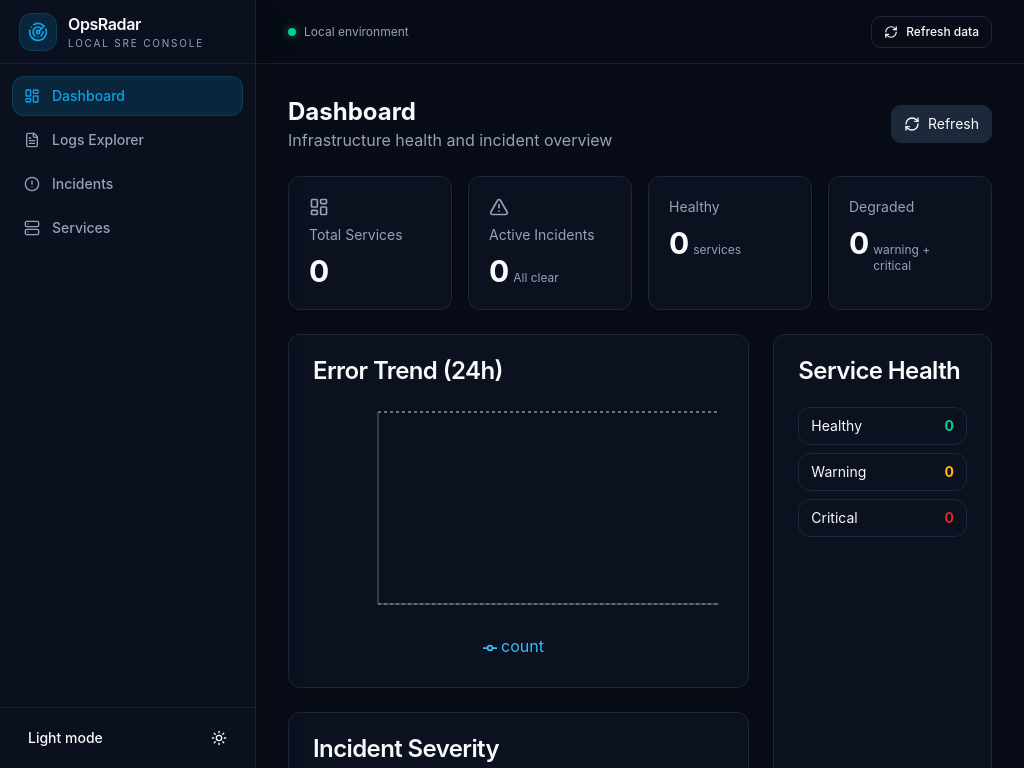
Test: application navigation › uses router navigation without reloading the page
Expected: the heading "Dashboard" is shown, top-left (288, 97), bottom-right (416, 126)
Click the link "Logs Explorer" at (84, 140), box top-left (24, 131), bottom-right (144, 148)
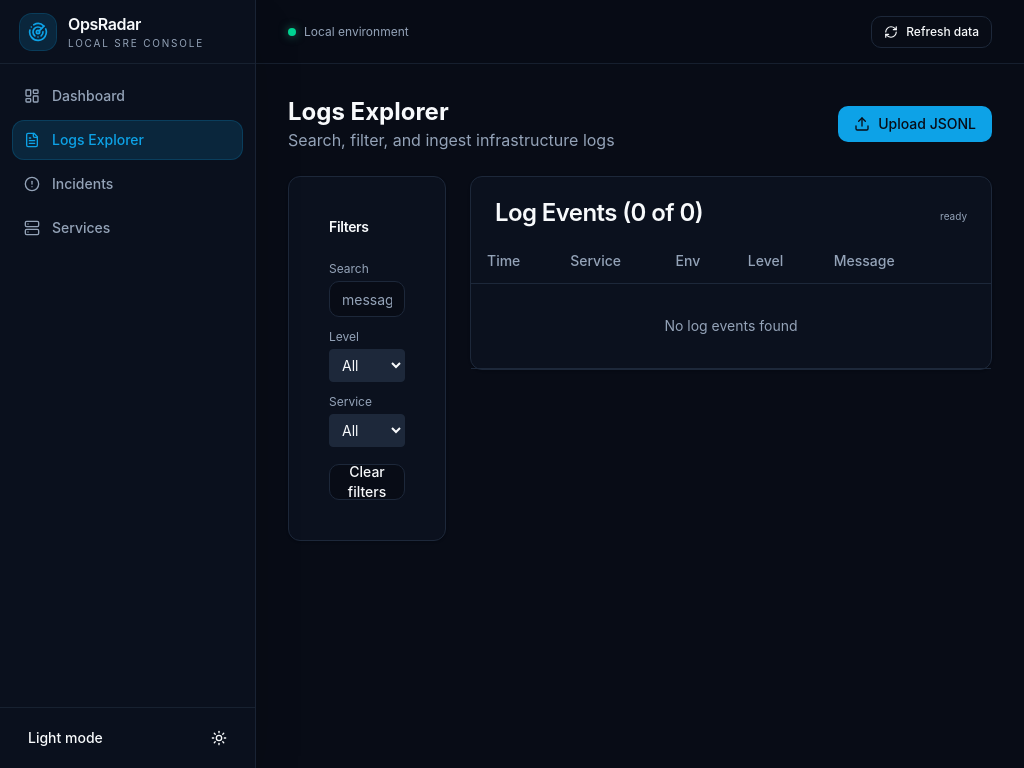
Expected: the heading "Logs Explorer" is shown, top-left (288, 97), bottom-right (449, 126)
